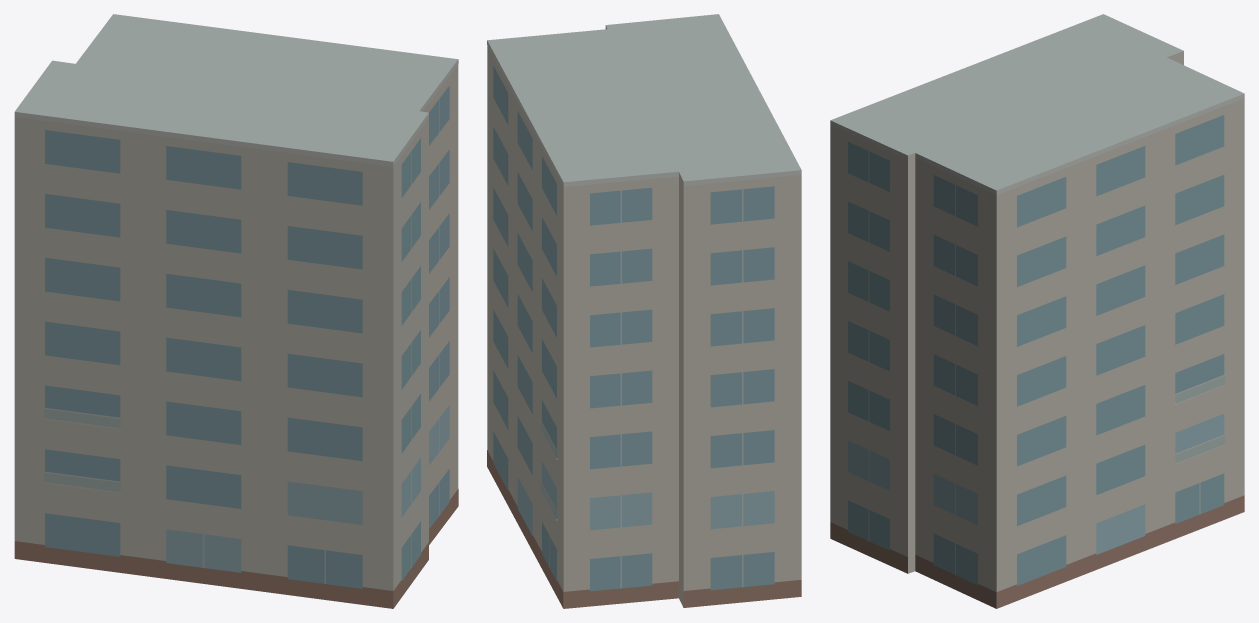
File: survey-upis-32686862.glb
3 views of the same model, side by side, from view 1: azimuth 30°, elevation 25°; view 2: azimuth 150°, elevation 25°; view 3: azimuth 270°, elevation 25° (orthographic). The views are drawn at different scales.
Parts seen in each view (by area): view 1: survey-upis-32686862.tmp; view 2: survey-upis-32686862.tmp; view 3: survey-upis-32686862.tmp.
Boxes of the visible parts, left/top/right/bottom form: survey-upis-32686862.tmp: left=14, top=14, right=458, bottom=608; survey-upis-32686862.tmp: left=487, top=14, right=801, bottom=608; survey-upis-32686862.tmp: left=830, top=14, right=1244, bottom=608.
Size of the model in its own units: 19.88 by 21.95 by 19.72.
